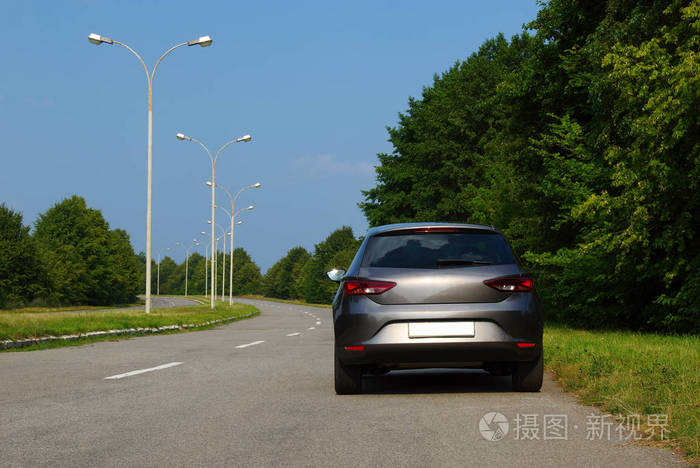car: (320, 218, 550, 398)
